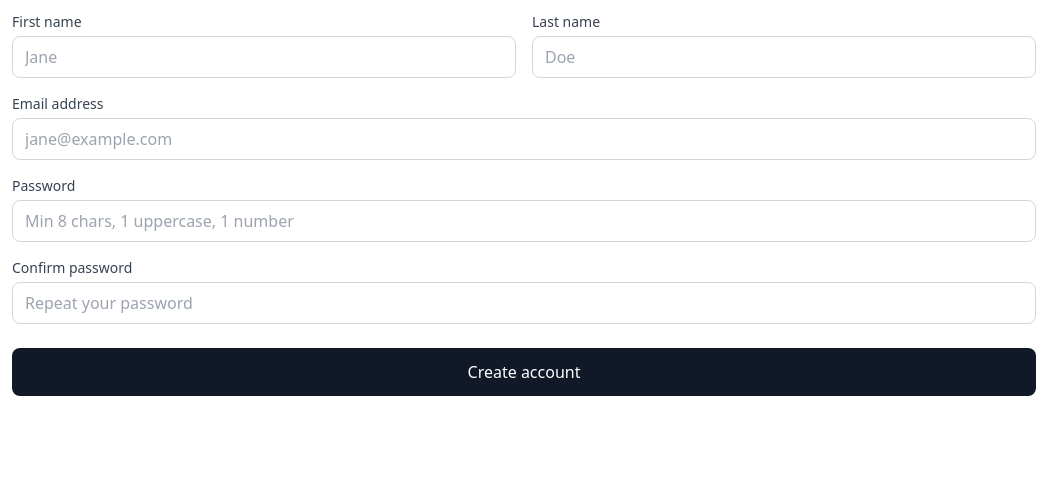
Test: RegisterForm › shows validation errors when form is submitted empty
Step 1. Click the button "Create account" → {"x": 524, "y": 372}, box x1=12 y1=348 x2=1036 y2=396
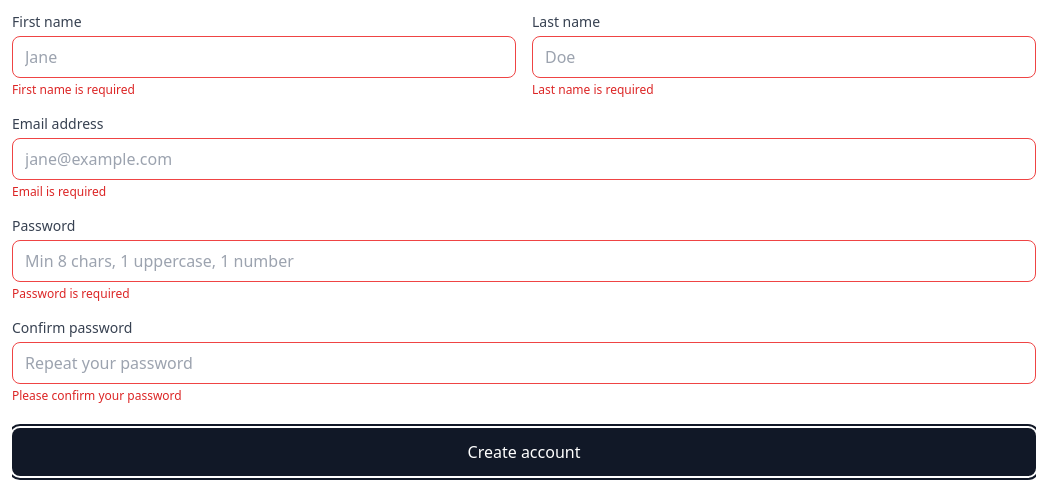
Now the text "First name is required" is shown, box x1=12 y1=81 x2=135 y2=98
Now the text "Last name is required" is shown, box x1=532 y1=81 x2=654 y2=98
Now the text "Email is required" is shown, box x1=12 y1=183 x2=106 y2=200
